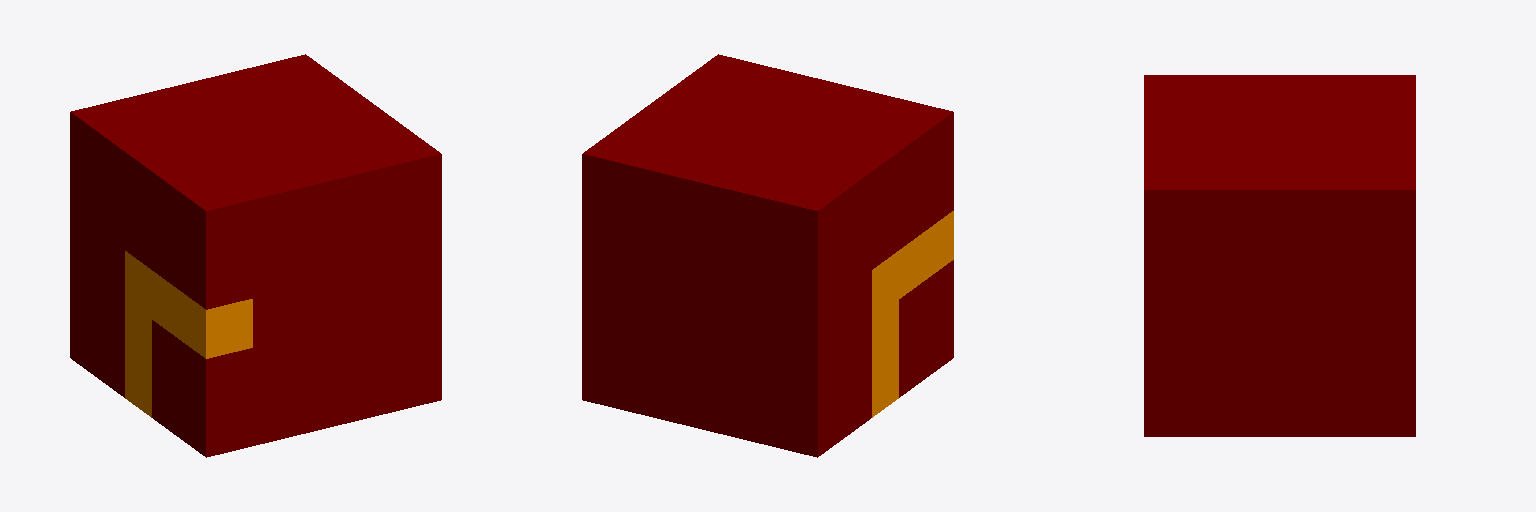
3 views of the same model, side by side, from view 1: azimuth 30°, elevation 25°; view 2: azimuth 150°, elevation 25°; view 3: azimuth 270°, elevation 25° (orthographic).
Parts seen in each view (by area): view 1: 04; view 2: 04; view 3: 04.
Part boxes in pixels (x1,y1,x2,y2): 04: (70, 54, 441, 457); 04: (582, 54, 953, 457); 04: (1144, 75, 1415, 436).
Size of the model in its own units: 5 by 5 by 5.
Materials: 1 (1 with a texture image).